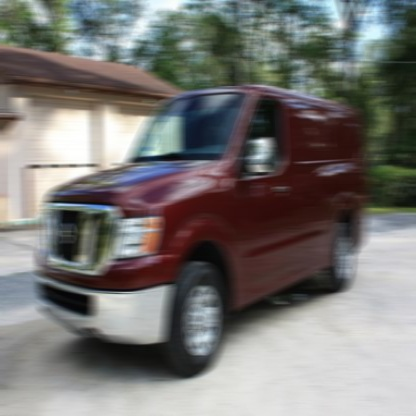Vehicle: (38, 85, 370, 383)
